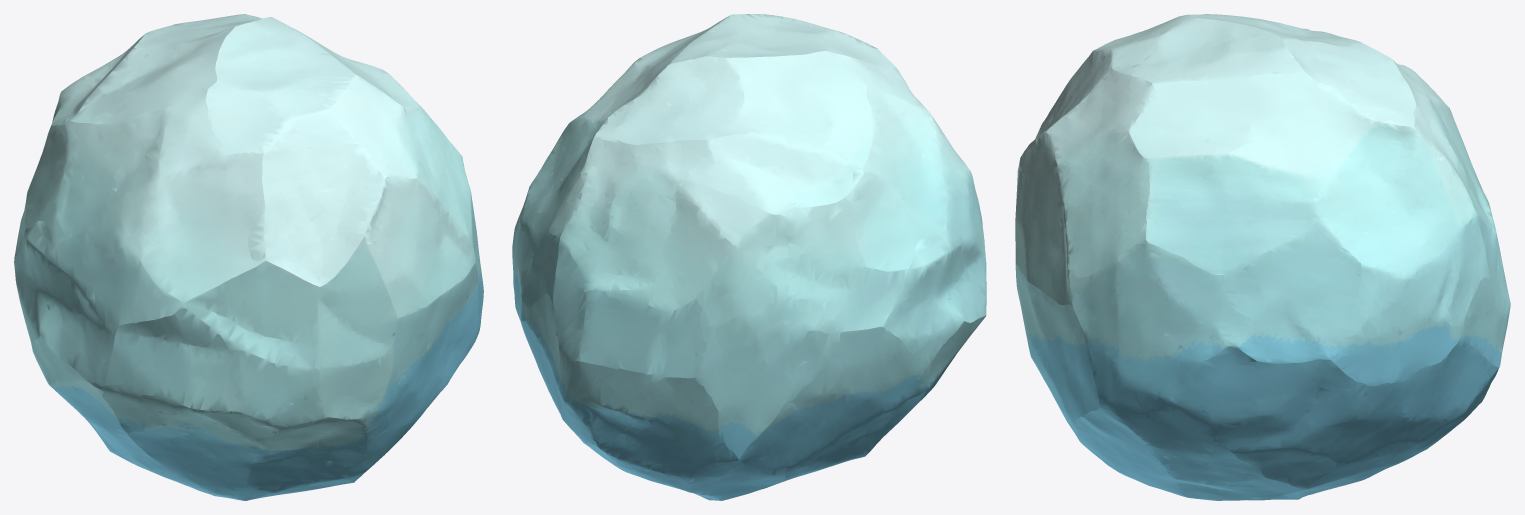
Rendered from item_snowball.glb.
The picture shows the model from 3 angles, left to right: view 1: azimuth 30°, elevation 25°; view 2: azimuth 150°, elevation 25°; view 3: azimuth 270°, elevation 25°; orthographic projection. The views are drawn at different scales.
Parts seen in each view (by area): view 1: item_snowball; view 2: item_snowball; view 3: item_snowball.
Part boxes in pixels (x1,y1,x2,y2): item_snowball: [14, 14, 483, 500]; item_snowball: [512, 14, 986, 500]; item_snowball: [1015, 14, 1510, 500].
Size of the model in its own units: 0.1187 by 0.12 by 0.1191.
Materials: 1 (1 with a texture image).
